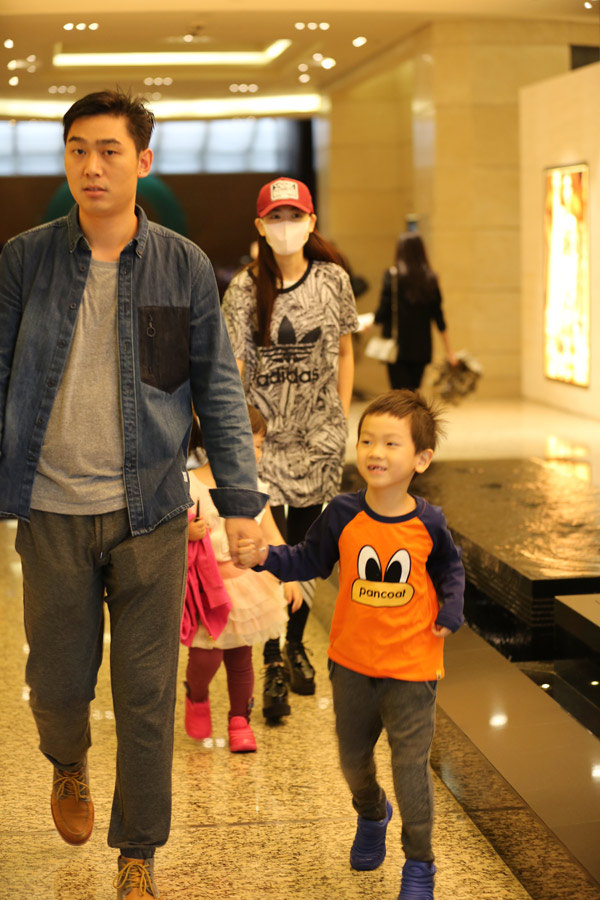face: (67, 111, 135, 212), (358, 413, 409, 487)
face_mask: (265, 201, 305, 260)
